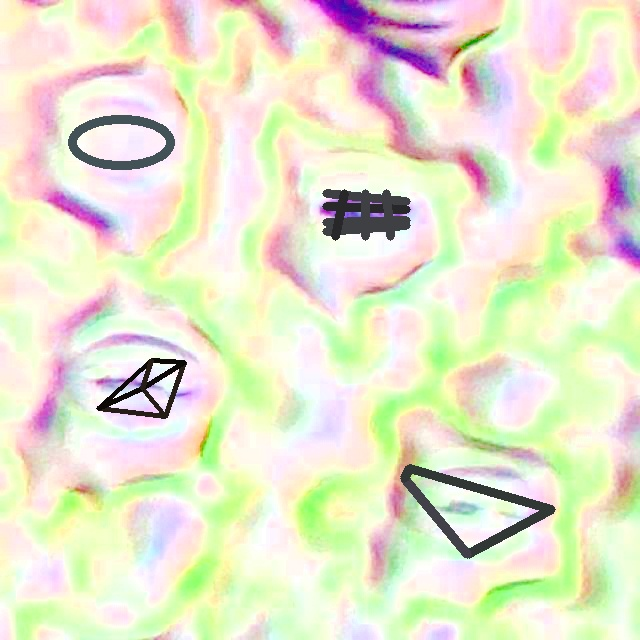close: (68, 115, 174, 169)
open: (400, 464, 555, 558), (97, 358, 186, 418), (322, 189, 410, 240)
